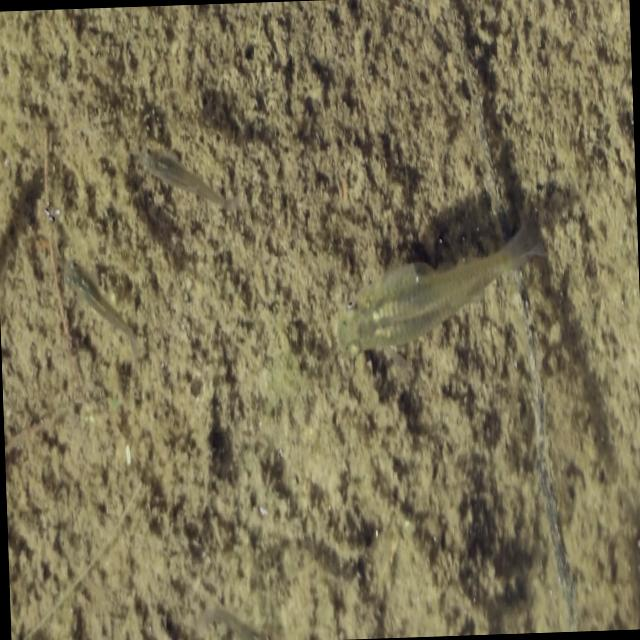Sivrisinek Baligi: (332, 201, 552, 364), (138, 126, 236, 219), (62, 254, 142, 362)
